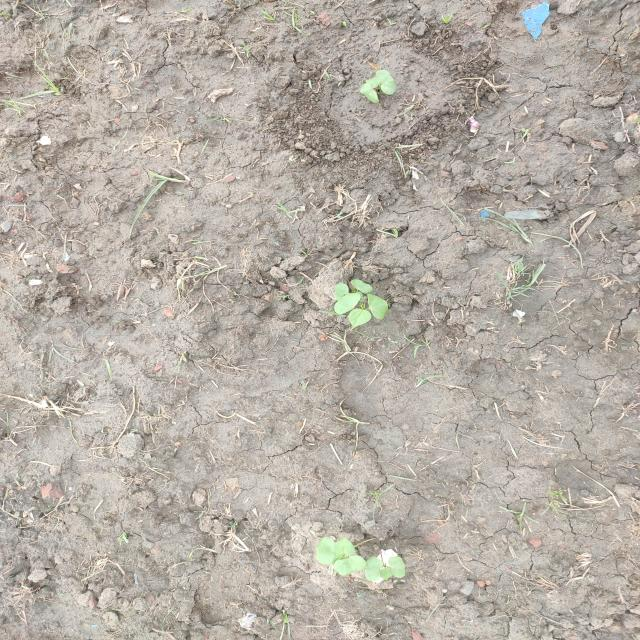seedling_s4: (333, 555, 367, 576), (334, 293, 361, 314), (375, 70, 397, 95), (367, 294, 388, 320), (316, 537, 335, 565), (349, 308, 371, 329), (365, 557, 383, 581), (333, 537, 355, 556), (360, 83, 379, 103), (388, 556, 405, 578), (351, 279, 373, 294), (334, 283, 348, 301), (365, 77, 381, 88), (380, 567, 393, 580)
